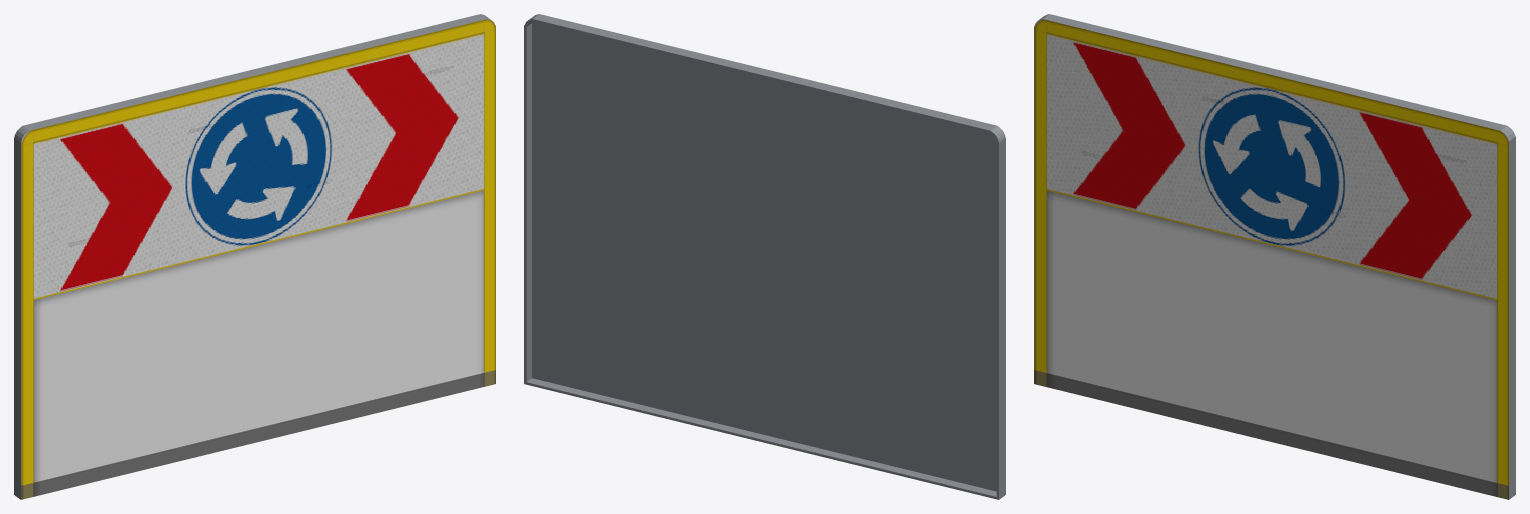
3 renders of one model, left to right at view 1: azimuth 30°, elevation 25°; view 2: azimuth 150°, elevation 25°; view 3: azimuth 330°, elevation 25°, orthographic.
Parts seen in each view (by area): view 1: cat_52ebdcf045d2e6fa; view 2: cat_52ebdcf045d2e6fa; view 3: cat_52ebdcf045d2e6fa.
Part boxes in pixels (x1,y1,x2,y2): cat_52ebdcf045d2e6fa: [14, 14, 495, 499]; cat_52ebdcf045d2e6fa: [524, 14, 1005, 499]; cat_52ebdcf045d2e6fa: [1034, 14, 1515, 499].
Bounding box in the file's own units: 0.6 × 0.015 × 0.4434.
2 materials, 1 textured.
